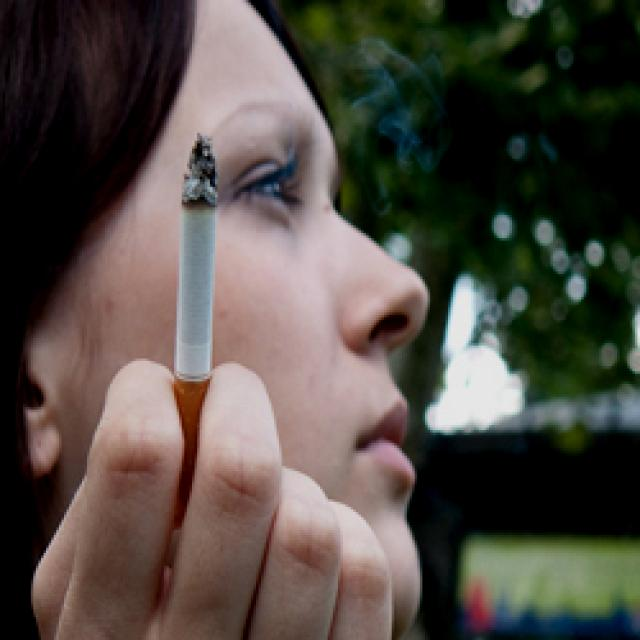Smooking: (150, 138, 241, 410)
